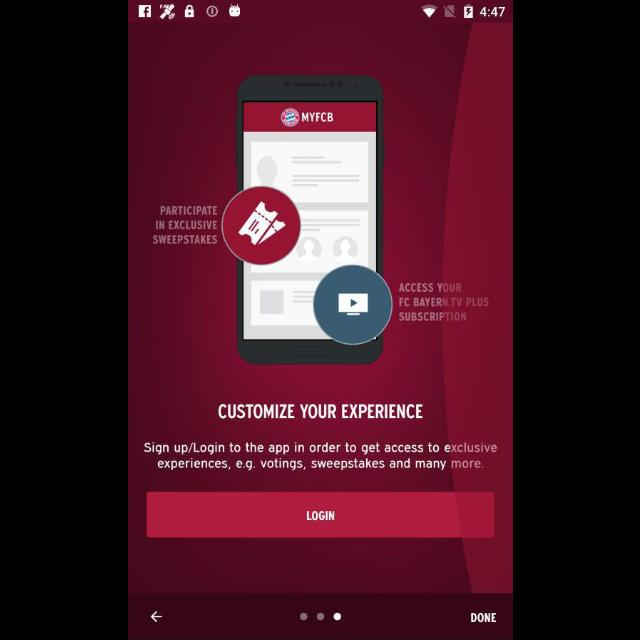icon: (150, 611, 162, 623)
image: (152, 75, 488, 365)
pageindicator: (299, 612, 341, 620)
text: (144, 442, 496, 471), (218, 403, 422, 419), (470, 614, 496, 622)
textbutton: (146, 492, 494, 538)
uppertaskbar: (128, 1, 512, 23)
